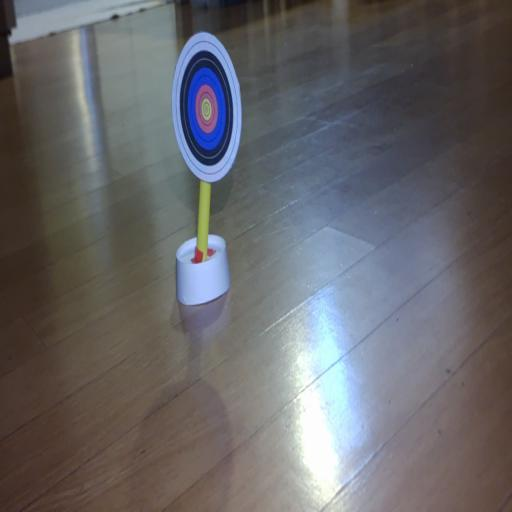target: (172, 32, 242, 182)
